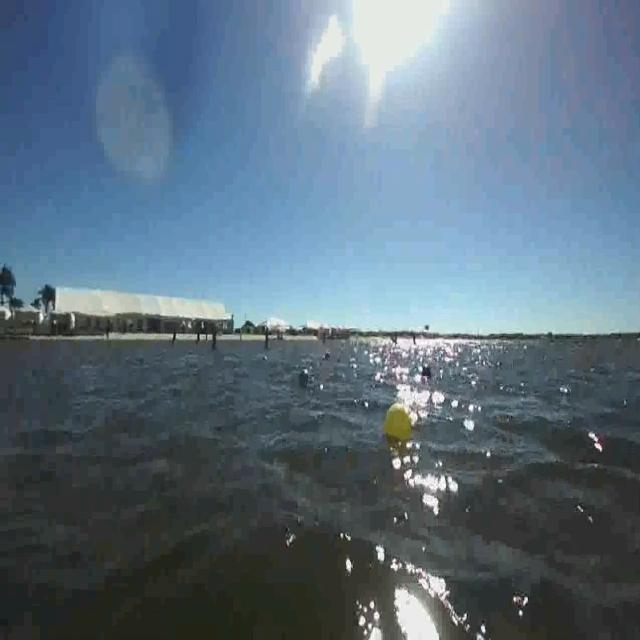yellow-buoy: (382, 402, 413, 445)
